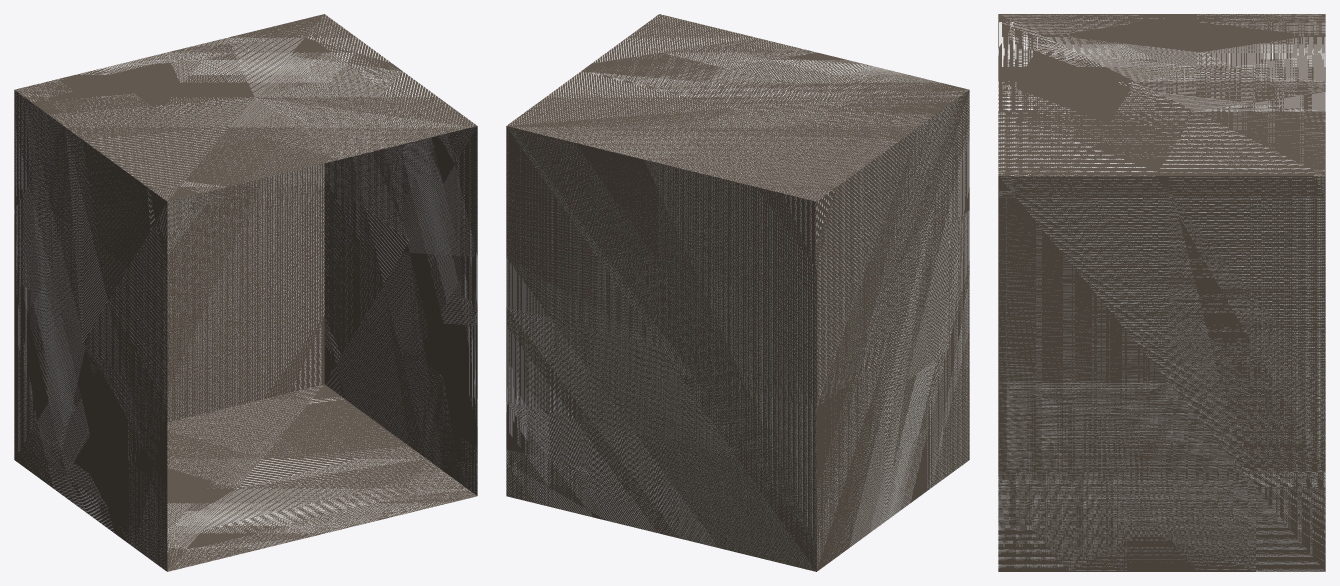
Rendered from original-41.obj.
3 views of the same model, side by side, from view 1: azimuth 30°, elevation 25°; view 2: azimuth 150°, elevation 25°; view 3: azimuth 270°, elevation 25° (orthographic). The views are drawn at different scales.
Parts seen in each view (by area): view 1: mesh16/mesh16-geometry/material_0/component_1#mesh16-geometry; view 2: mesh16/mesh16-geometry/material_0/component_1#mesh16-geometry; view 3: mesh16/mesh16-geometry/material_0/component_1#mesh16-geometry.
Boxes of the visible parts, x1,y1,x2,y2 form: mesh16/mesh16-geometry/material_0/component_1#mesh16-geometry: [14, 14, 477, 571]; mesh16/mesh16-geometry/material_0/component_1#mesh16-geometry: [506, 14, 969, 571]; mesh16/mesh16-geometry/material_0/component_1#mesh16-geometry: [998, 14, 1325, 571].
Bounding box in the file's own units: 0.8651 × 0.9861 × 0.7387.
